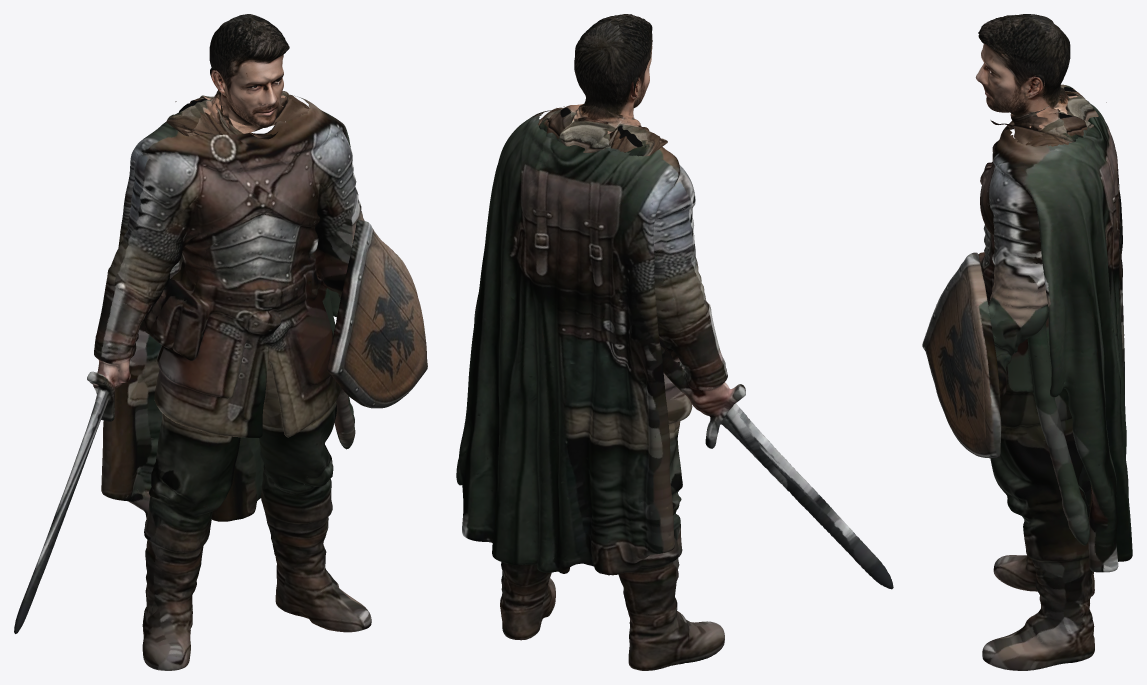
Rendered from knight_ai.glb.
3 renders of one model, left to right at view 1: azimuth 30°, elevation 25°; view 2: azimuth 150°, elevation 25°; view 3: azimuth 270°, elevation 25°, orthographic. The views are drawn at different scales.
Visible parts, largest first — view 1: Body, Head; view 2: Body, Head; view 3: Body, Head.
Boxes of the visible parts, x1,y1,x2,y2 form: Body: (14,94,427,670); Head: (166,14,309,136); Body: (456,106,893,670); Head: (537,14,667,160); Body: (922,101,1132,670); Head: (975,14,1106,146).
Size of the model in its own units: 1.27 by 1.8 by 0.5677.
2 materials, 2 textured.
